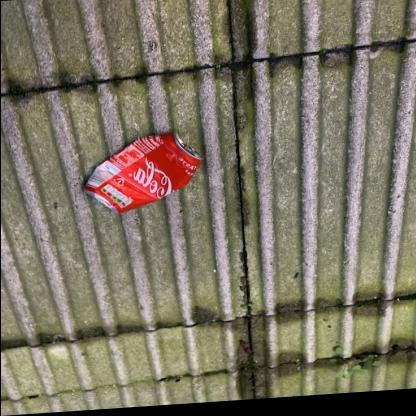trash: (84, 132, 200, 212)
